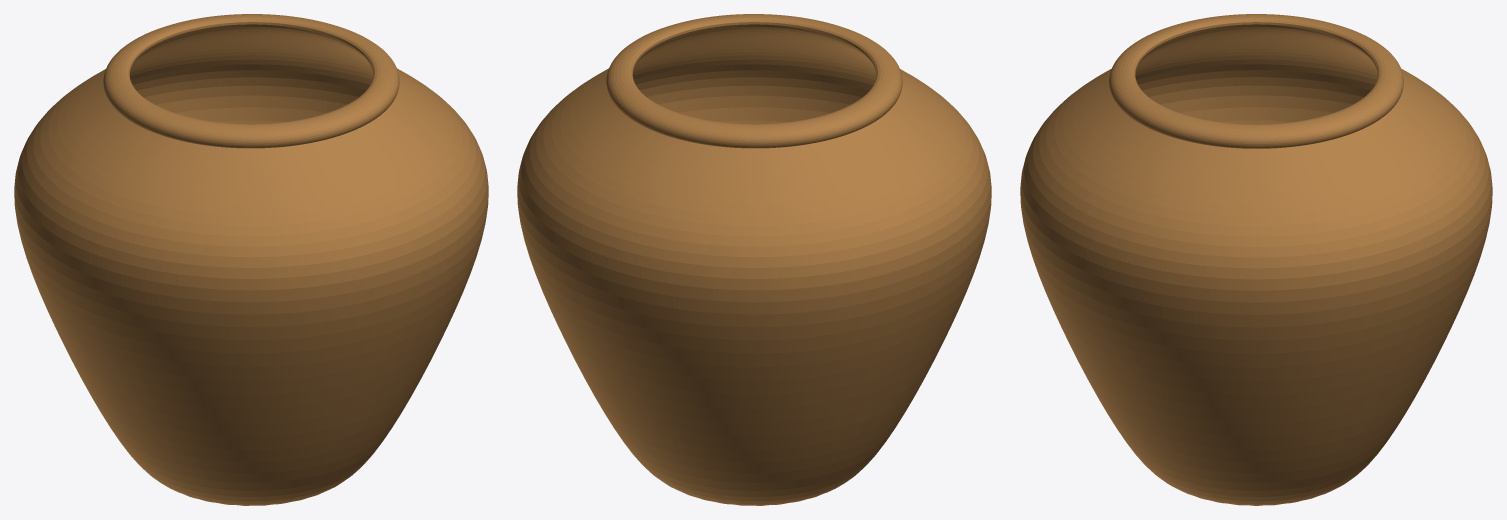
Rendered from Jarra modelado 22.fbx.
3 renders of one model, left to right at view 1: azimuth 30°, elevation 25°; view 2: azimuth 150°, elevation 25°; view 3: azimuth 270°, elevation 25°, orthographic.
Parts seen in each view (by area): view 1: Circle; view 2: Circle; view 3: Circle.
Boxes of the visible parts, <box> form: Circle: <box>14,14,488,505</box>; Circle: <box>517,14,991,505</box>; Circle: <box>1020,14,1492,505</box>.
Bounding box in the file's own units: 4.92 × 4.61 × 4.89.
1 material, 1 textured.
